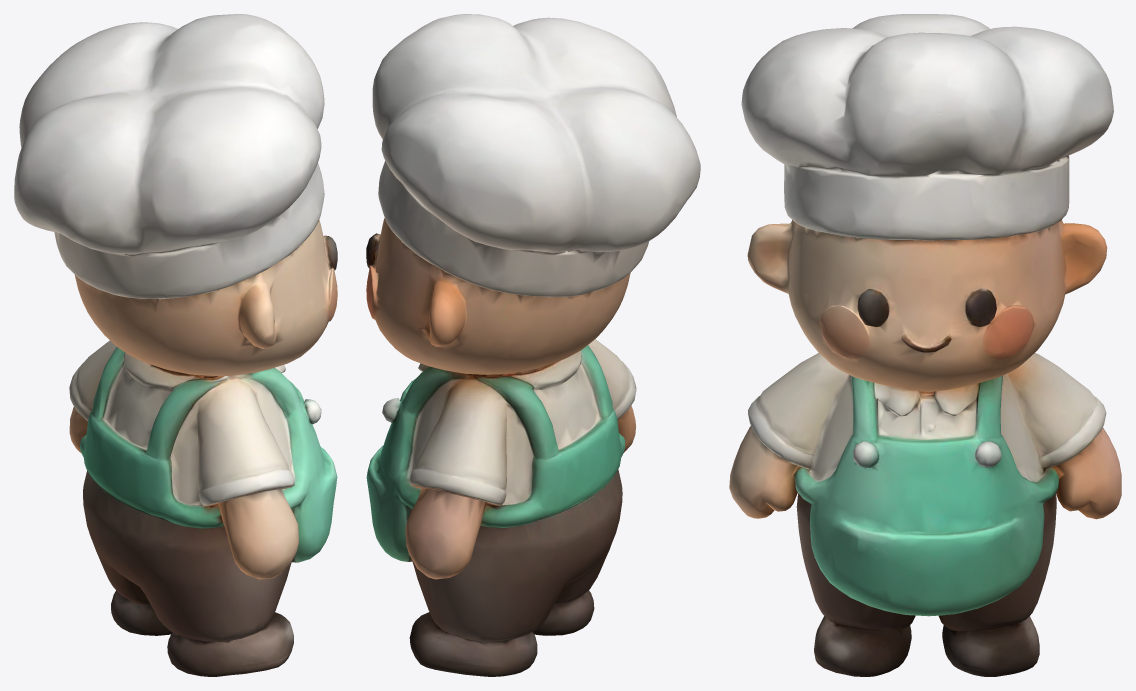
The model's file is staff.glb.
3 views of the same model, side by side, from view 1: azimuth 30°, elevation 25°; view 2: azimuth 150°, elevation 25°; view 3: azimuth 270°, elevation 25° (orthographic). The views are drawn at different scales.
Parts seen in each view (by area): view 1: tripo_node_f939d856-6eb1-47bf-ae86-eb812872cf4a; view 2: tripo_node_f939d856-6eb1-47bf-ae86-eb812872cf4a; view 3: tripo_node_f939d856-6eb1-47bf-ae86-eb812872cf4a.
Part boxes in pixels (left/top/right/bottom): tripo_node_f939d856-6eb1-47bf-ae86-eb812872cf4a: left=14, top=14, right=337, bottom=676; tripo_node_f939d856-6eb1-47bf-ae86-eb812872cf4a: left=366, top=14, right=700, bottom=676; tripo_node_f939d856-6eb1-47bf-ae86-eb812872cf4a: left=729, top=14, right=1121, bottom=676.
Bounding box in the file's own units: 0.5164 × 1 × 0.564.
1 material, 1 textured.
